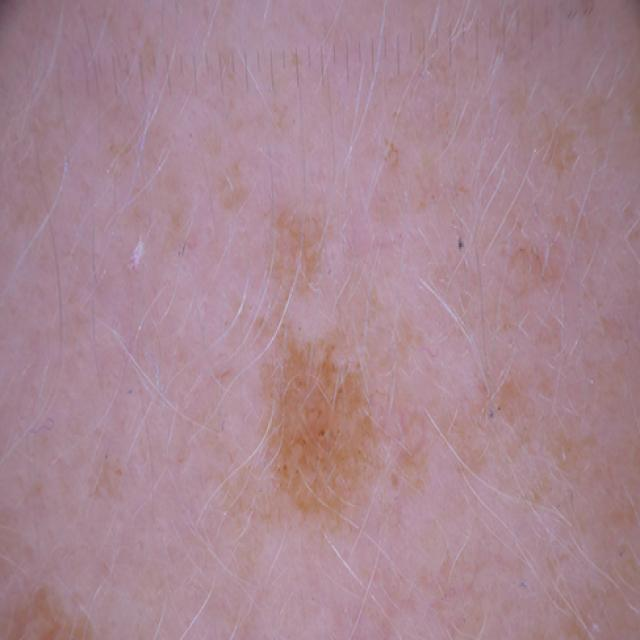Keratosis: (183, 180, 447, 577), (532, 116, 640, 275), (8, 571, 167, 640)
